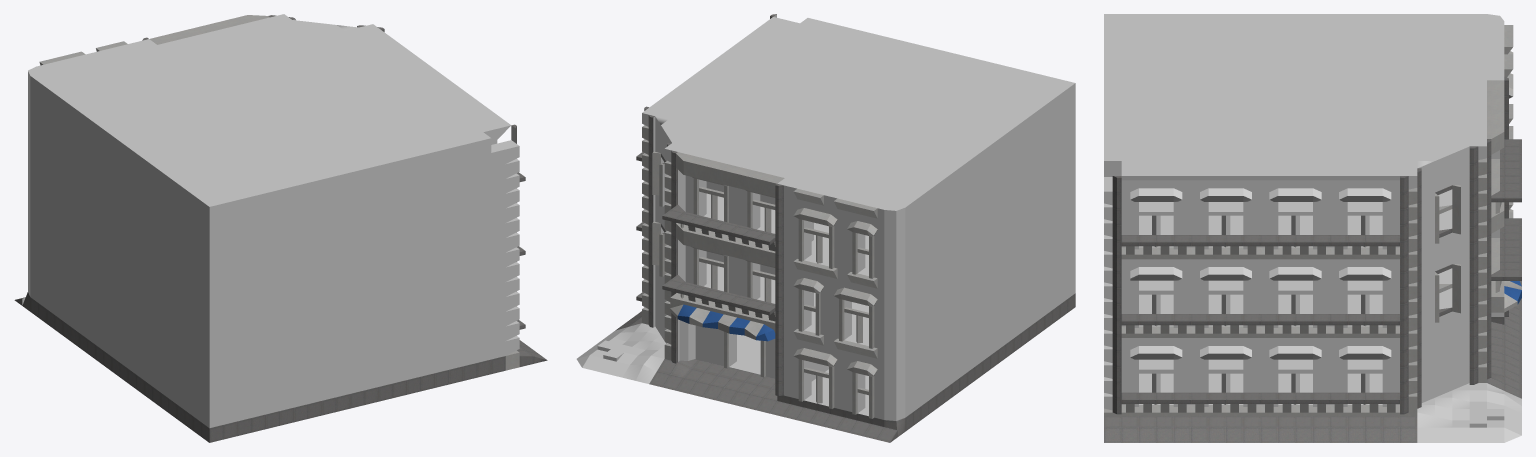
The model's file is hotel.fbx.
3 renders of one model, left to right at view 1: azimuth 30°, elevation 25°; view 2: azimuth 150°, elevation 25°; view 3: azimuth 270°, elevation 25°, orthographic. The views are drawn at different scales.
Visible parts, largest first — view 1: хз отель; view 2: хз отель; view 3: хз отель.
Part boxes in pixels (left/top/right/bottom): хз отель: left=14, top=14, right=547, bottom=442; хз отель: left=576, top=14, right=1075, bottom=442; хз отель: left=1104, top=14, right=1521, bottom=442.
Bounding box in the file's own units: 2400 × 1600 × 2400.
